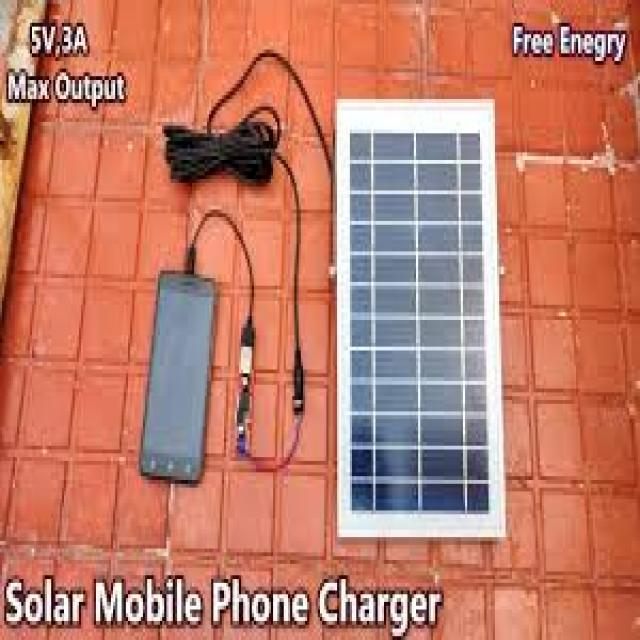no faulty: (341, 121, 498, 530)
